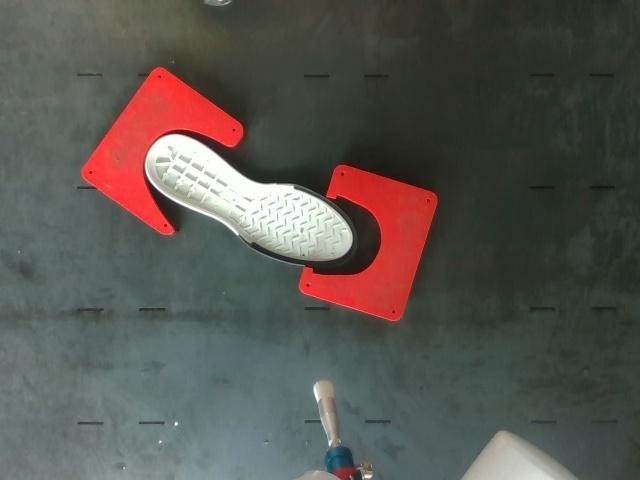shoes: (146, 135, 356, 266)
